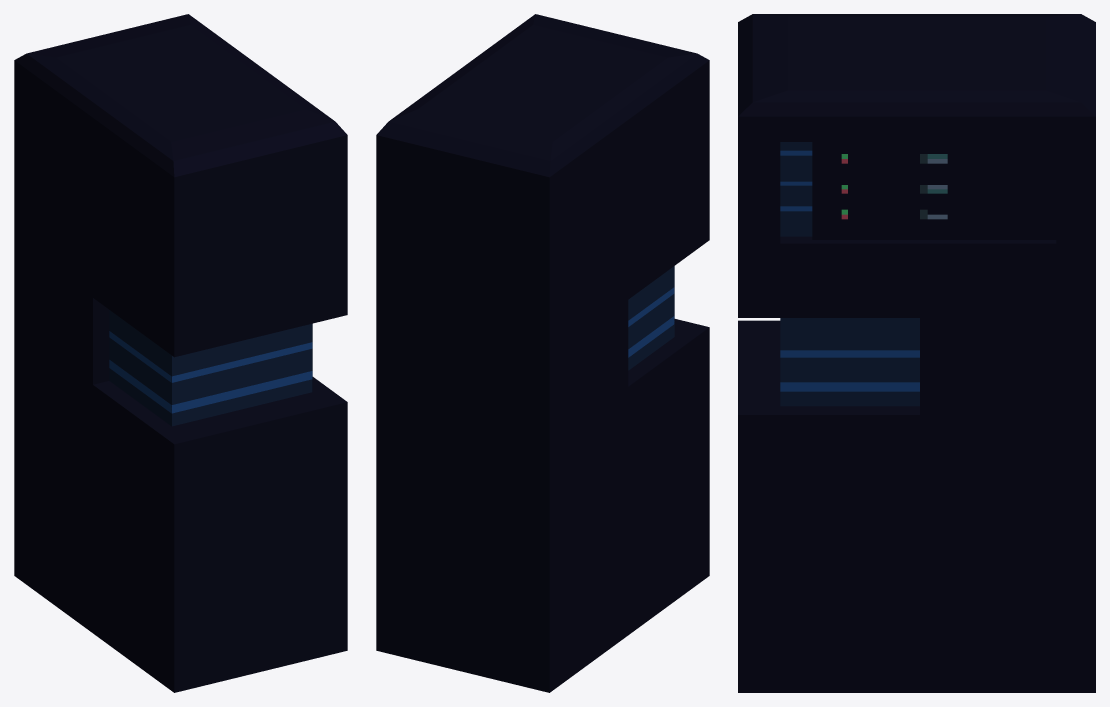
File: RivenRoom_ServerLeft.fbx
3 views of the same model, side by side, from view 1: azimuth 30°, elevation 25°; view 2: azimuth 150°, elevation 25°; view 3: azimuth 270°, elevation 25° (orthographic). The views are drawn at different scales.
Visible parts, largest first — view 1: Cube.132; view 2: Cube.132; view 3: Cube.132.
Part boxes in pixels (x1=…): Cube.132: x1=14, y1=14, x2=347, y2=692; Cube.132: x1=376, y1=14, x2=709, y2=692; Cube.132: x1=738, y1=14, x2=1095, y2=692.
Size of the model in its own units: 70.17 by 205 by 112.
